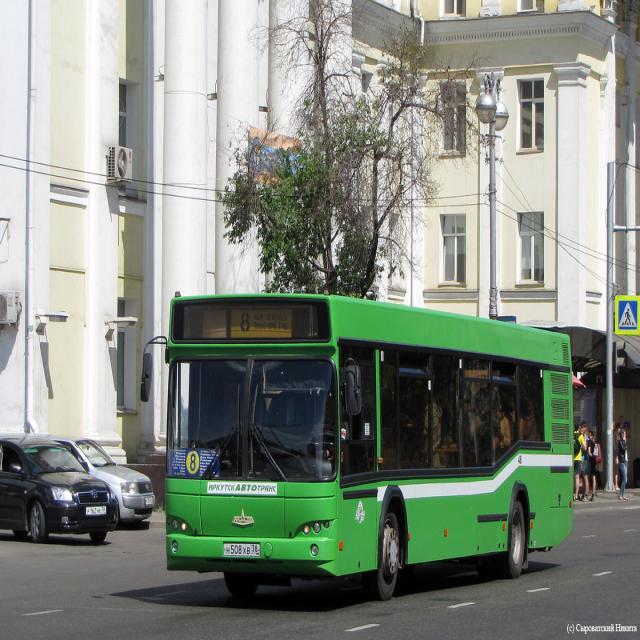number-of-bus: (239, 308, 254, 338), (189, 451, 200, 475)
